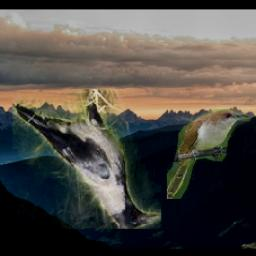Crow: (12, 90, 161, 230)
Cuckoo: (166, 109, 250, 199)
